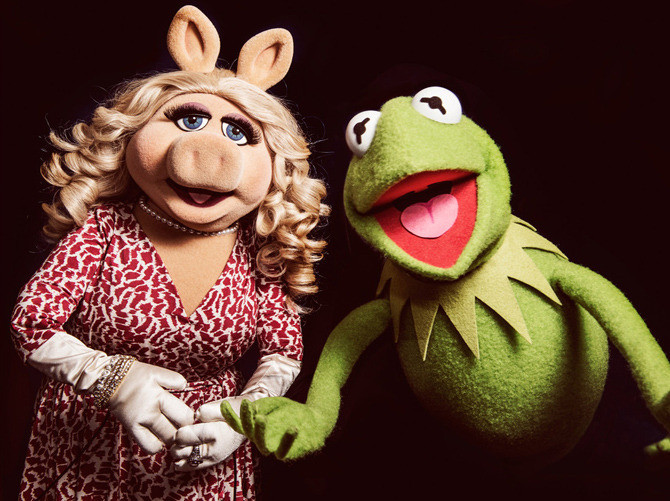kermit: (340, 85, 519, 286)
